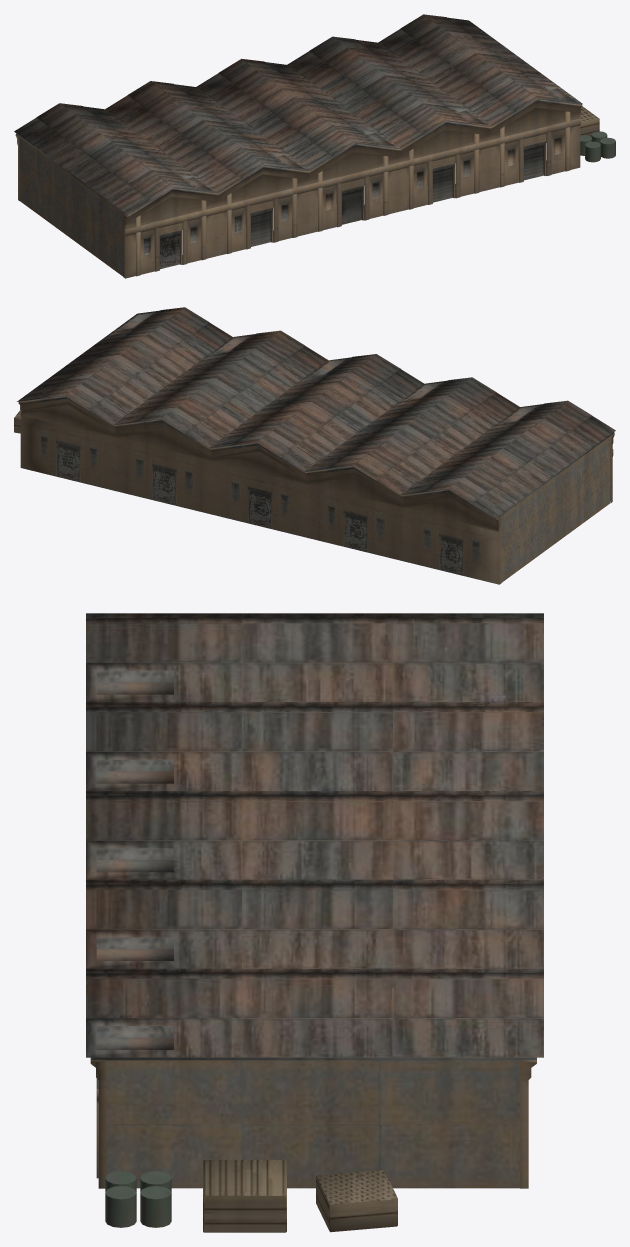
Rendered from a08_warehouse_a.glb.
3 views of the same model, one above another, from view 1: azimuth 30°, elevation 25°; view 2: azimuth 150°, elevation 25°; view 3: azimuth 270°, elevation 25° (orthographic). The views are drawn at different scales.
Parts seen in each view (by area): view 1: body; view 2: body; view 3: body.
Boxes of the visible parts, x1,y1,x2,y2 form: body: [14, 14, 615, 278]; body: [14, 307, 615, 584]; body: [86, 613, 543, 1232].
Size of the model in its own units: 1 by 0.1582 by 0.3963.
1 material, 1 textured.
